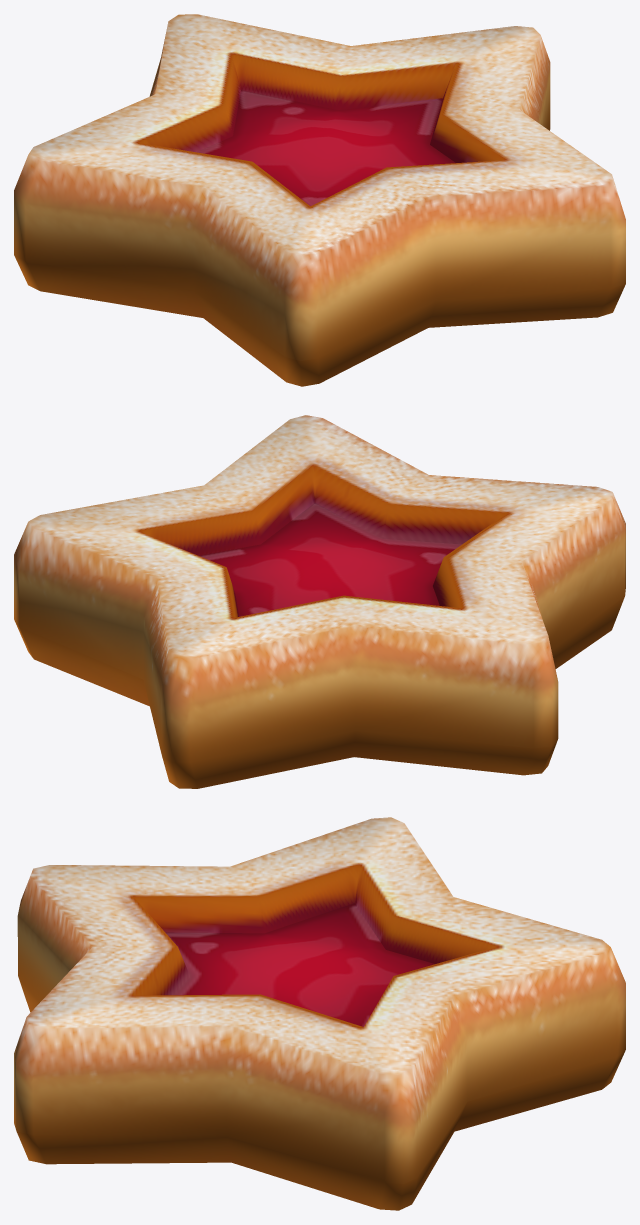
File: 009-Cookies02.FBX
3 renders of one model, top to bottom at view 1: azimuth 30°, elevation 25°; view 2: azimuth 150°, elevation 25°; view 3: azimuth 270°, elevation 25°, orthographic. The views are drawn at different scales.
Parts seen in each view (by area): view 1: 009-Cookies02; view 2: 009-Cookies02; view 3: 009-Cookies02.
Part boxes in pixels (x1=…): 009-Cookies02: x1=14, y1=14, x2=625, y2=386; 009-Cookies02: x1=14, y1=415, x2=625, y2=788; 009-Cookies02: x1=14, y1=817, x2=625, y2=1210.
Bounding box in the file's own units: 12.46 × 2.91 × 11.93.
